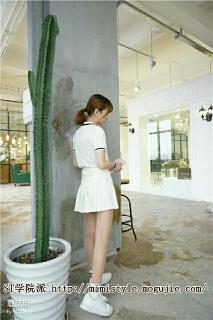short sleeve top: (72, 121, 109, 168)
skirt: (74, 166, 119, 213)
